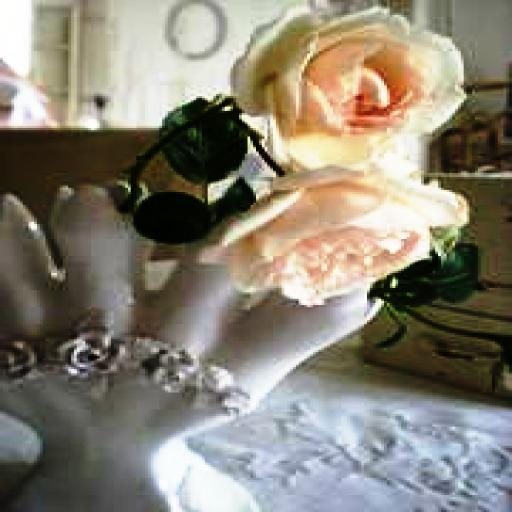rose: (208, 166, 472, 303), (225, 6, 461, 154)
